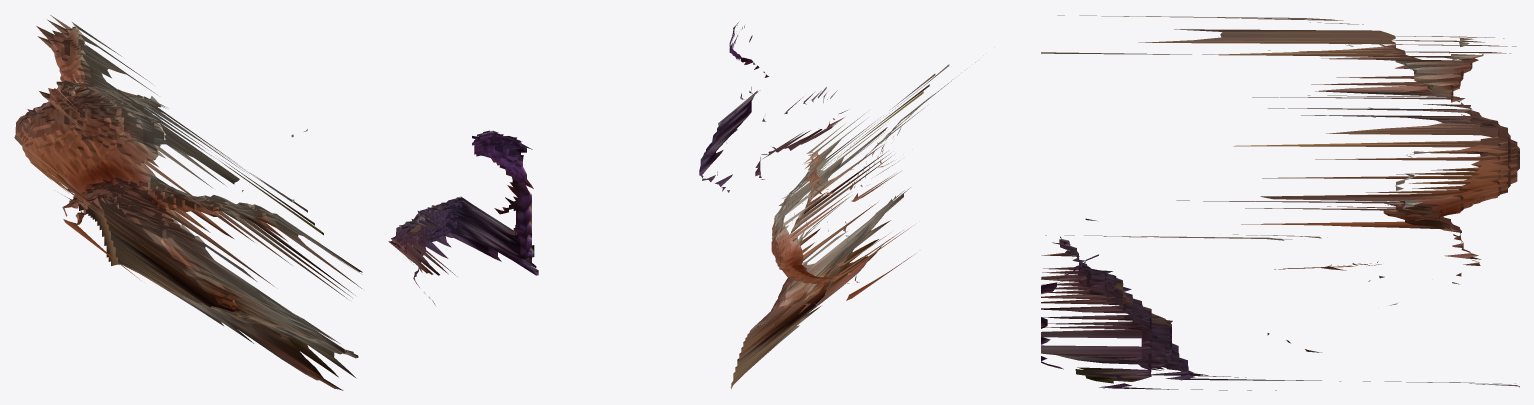
The model's file is frame_00309.glb.
The picture shows the model from 3 angles, left to right: view 1: azimuth 30°, elevation 25°; view 2: azimuth 150°, elevation 25°; view 3: azimuth 270°, elevation 25°; orthographic projection. The views are drawn at different scales.
Parts seen in each view (by area): view 1: geometry_0; view 2: geometry_0; view 3: geometry_0.
Part boxes in pixels (left/top/right/bottom): geometry_0: left=14, top=15, right=538, bottom=390; geometry_0: left=699, top=22, right=975, bottom=388; geometry_0: left=1041, top=15, right=1519, bottom=390.
Size of the model in its own units: 0.1417 by 0.1144 by 0.16.
Materials: 1 (1 with a texture image).
